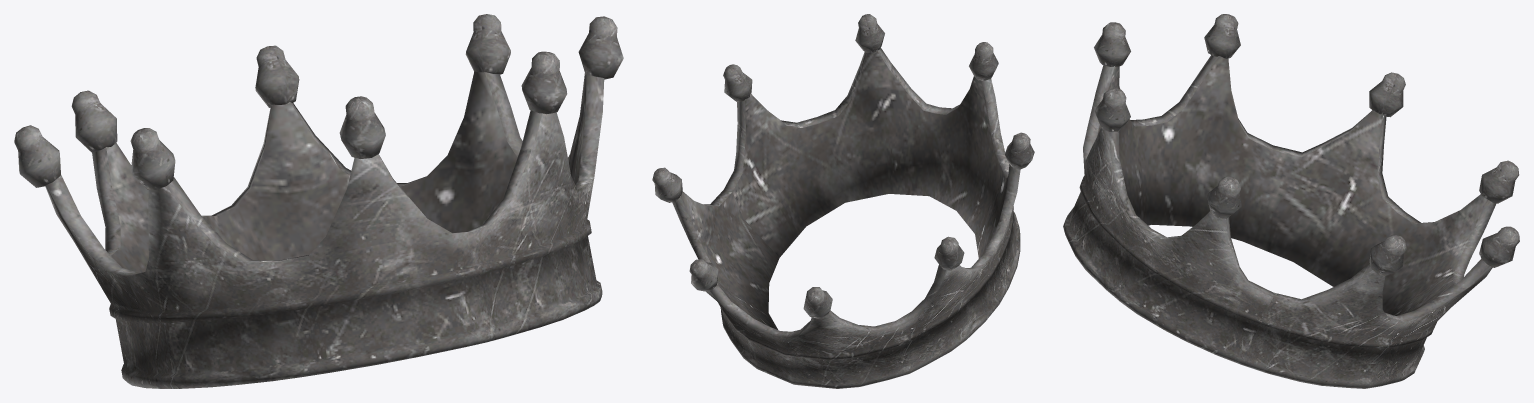
The model's file is SurvivorMale_Head_Hat_Crown_LOD0.glb.
The picture shows the model from 3 angles, left to right: view 1: azimuth 30°, elevation 25°; view 2: azimuth 150°, elevation 25°; view 3: azimuth 270°, elevation 25°; orthographic projection. The views are drawn at different scales.
Parts seen in each view (by area): view 1: Hoodie; view 2: Hoodie; view 3: Hoodie.
Part boxes in pixels (x1,y1,x2,y2): Hoodie: (14, 14, 623, 388); Hoodie: (652, 14, 1034, 388); Hoodie: (1063, 14, 1519, 388).
Size of the model in its own units: 0.2323 by 0.1884 by 0.2597.
1 material, 1 textured.
